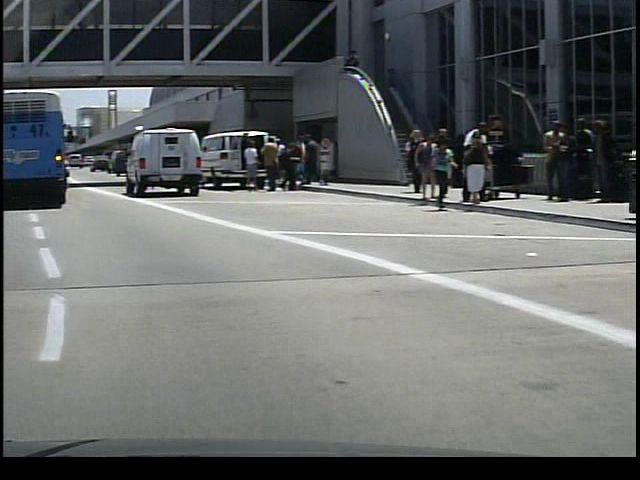person: (460, 121, 491, 206), (458, 129, 488, 207), (254, 133, 283, 194), (298, 132, 320, 185), (238, 135, 257, 193)
